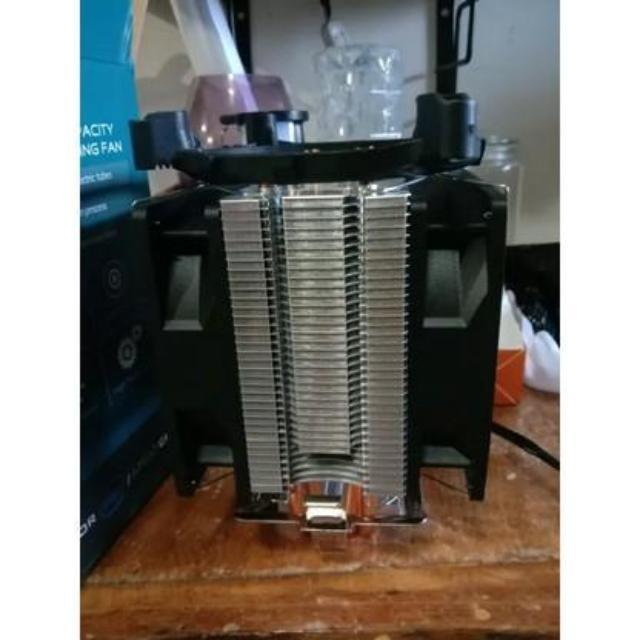CPU_Fan: (136, 100, 510, 532)
